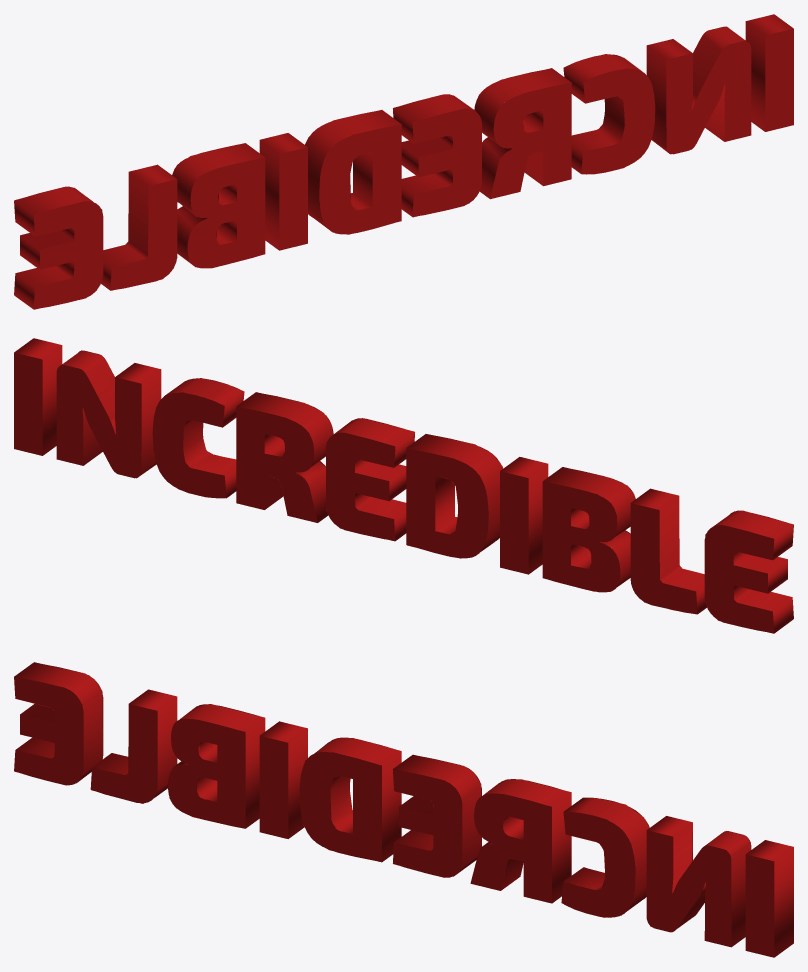
Rendered from incredible.fbx.
3 renders of one model, top to bottom at view 1: azimuth 30°, elevation 25°; view 2: azimuth 150°, elevation 25°; view 3: azimuth 330°, elevation 25°, orthographic.
Parts seen in each view (by area): view 1: Text; view 2: Text; view 3: Text.
Part boxes in pixels (box(x1,y1,x2,y2)): Text: box(14, 14, 793, 309); Text: box(14, 338, 793, 633); Text: box(14, 662, 793, 957).
Size of the model in its own units: 17.82 by 2.24 by 0.8.
